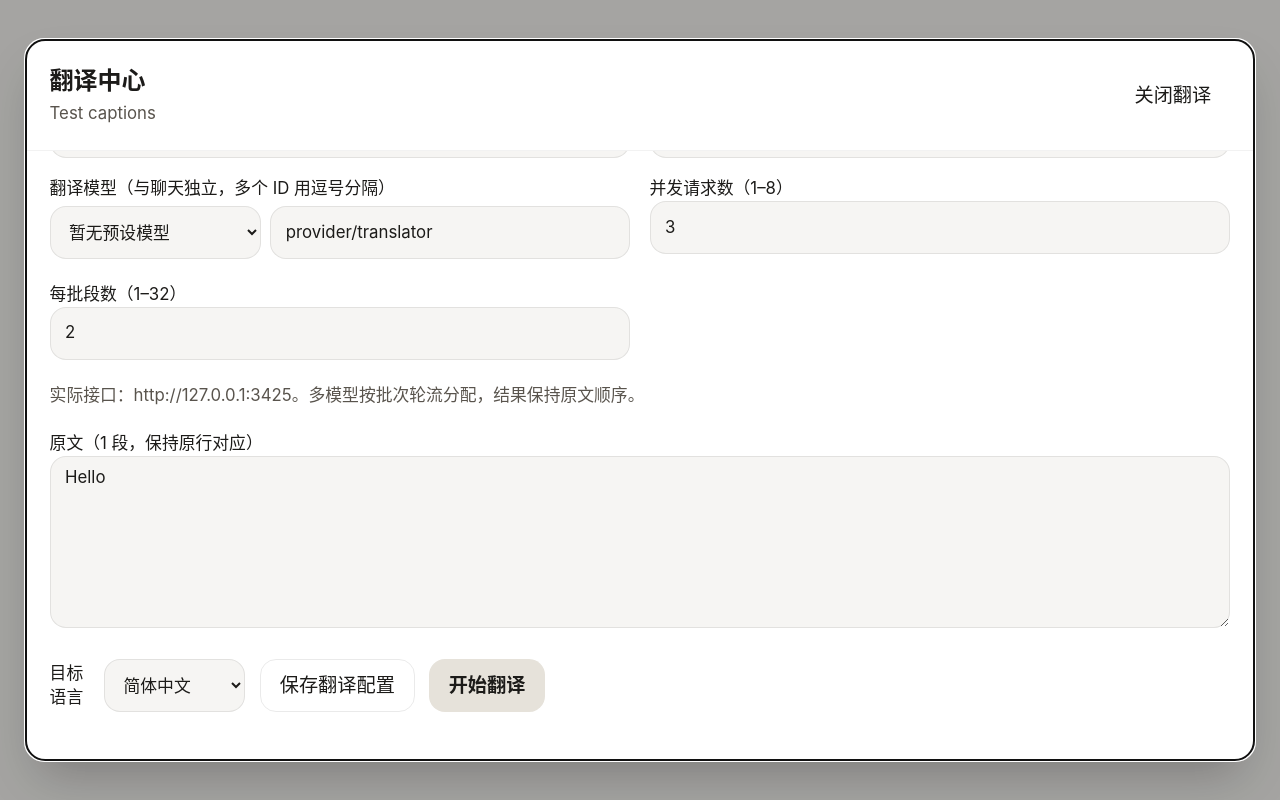
Test: translation panel submits independent models and concurrency then updates the source
This screenshot has width=1280, height=800.
(page scrolled)
Click the button "开始翻译": coordinates (487, 686) [429,659,544,712]
(page scrolled)
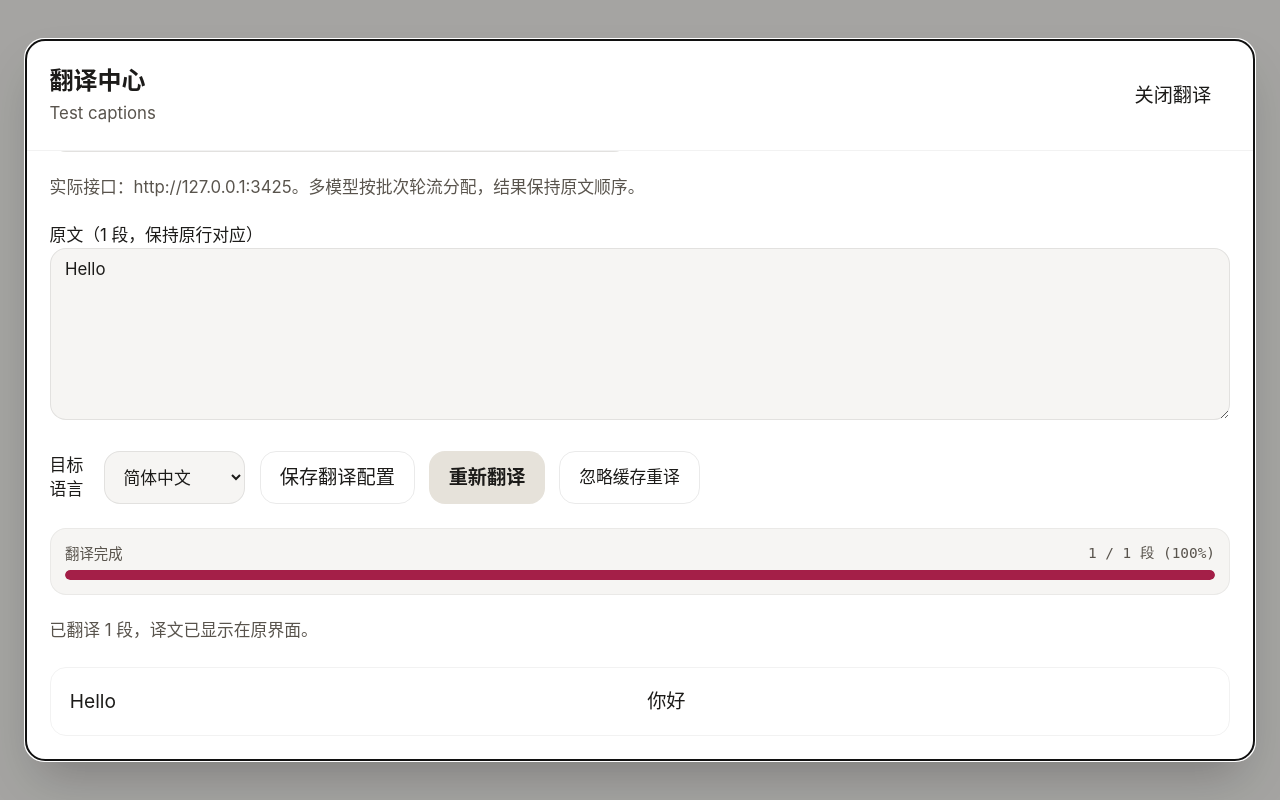
Expected: the text "你好" is shown, [647,689,686,713]
